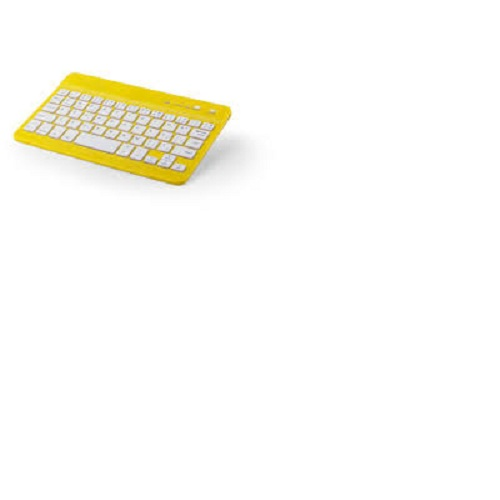Teclado: (11, 68, 234, 191)
